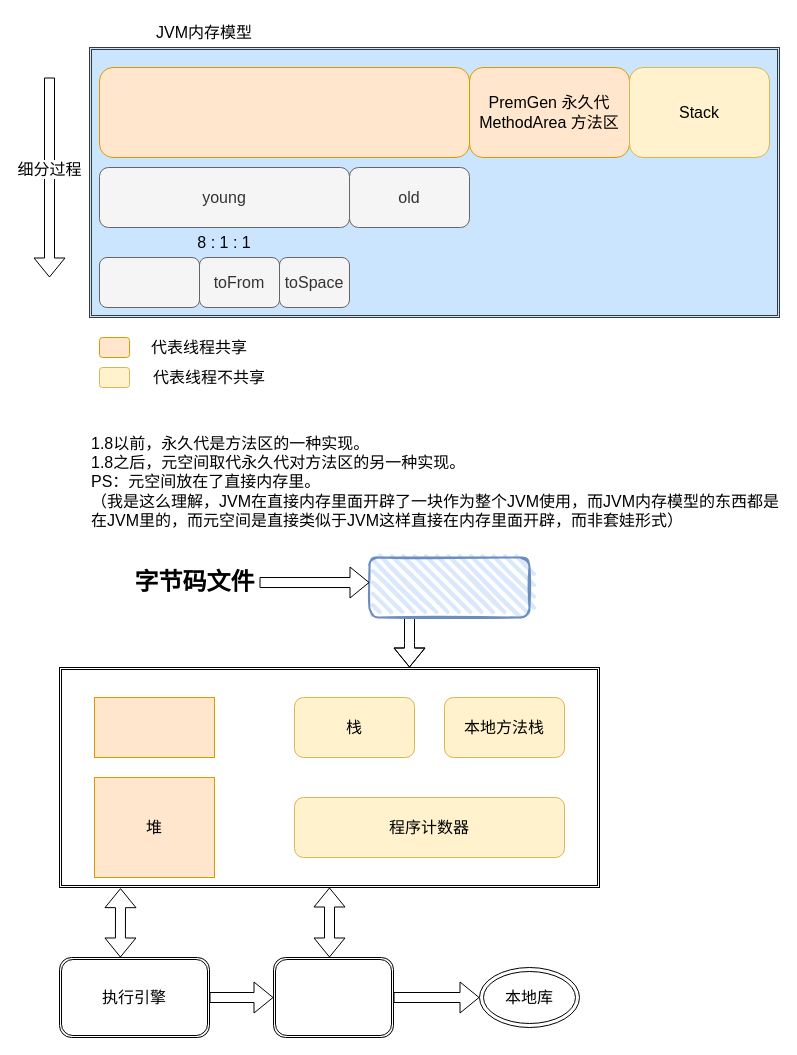
This 797x1055 diagram has some shape labels left out. The box of each missing label's shape, as (x1, y1, x2, y2) in pixels:
Eden: (98, 256, 200, 308)
heap 堆内存: (98, 66, 470, 158)
方法区: (94, 696, 214, 758)
本地接口: (272, 956, 394, 1038)
类加载器: (368, 556, 530, 618)
